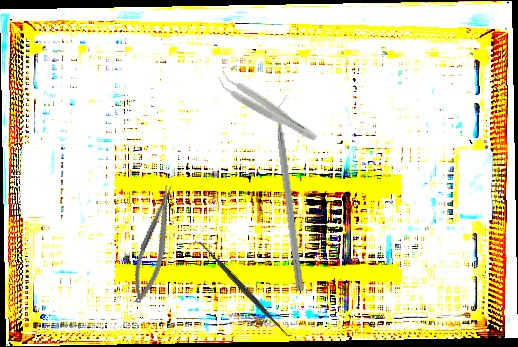Chopper: (272, 94, 314, 292)
Needle Holder: (124, 182, 185, 307)
Spatula Surgical: (191, 233, 295, 344)
Tissue Forceps: (213, 68, 322, 146)
